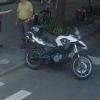Motorcycle: (16, 23, 95, 81)
